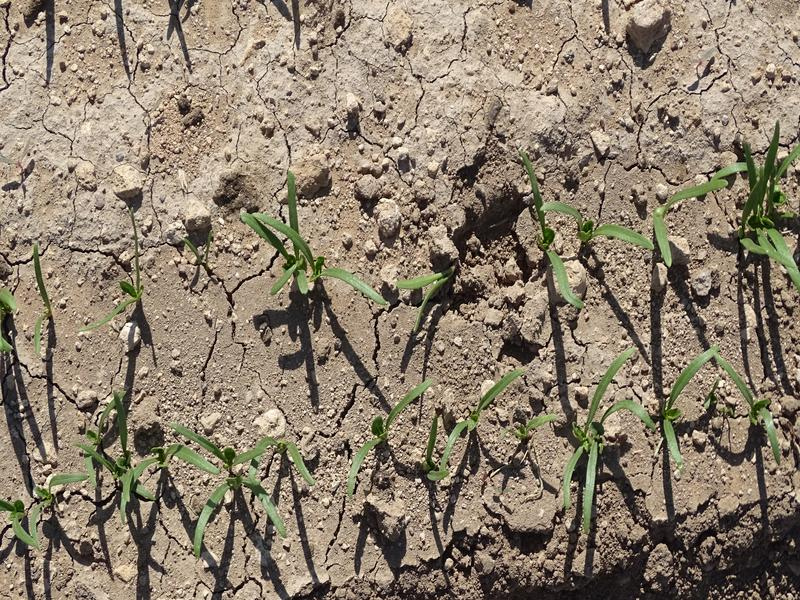Espinaca: (12, 432, 307, 556), (538, 345, 714, 530), (524, 162, 731, 310), (239, 177, 395, 307), (734, 134, 800, 280), (350, 376, 437, 485), (448, 364, 526, 475), (711, 352, 779, 463), (95, 213, 144, 327), (402, 259, 460, 328), (1, 283, 26, 354), (35, 246, 50, 355)
